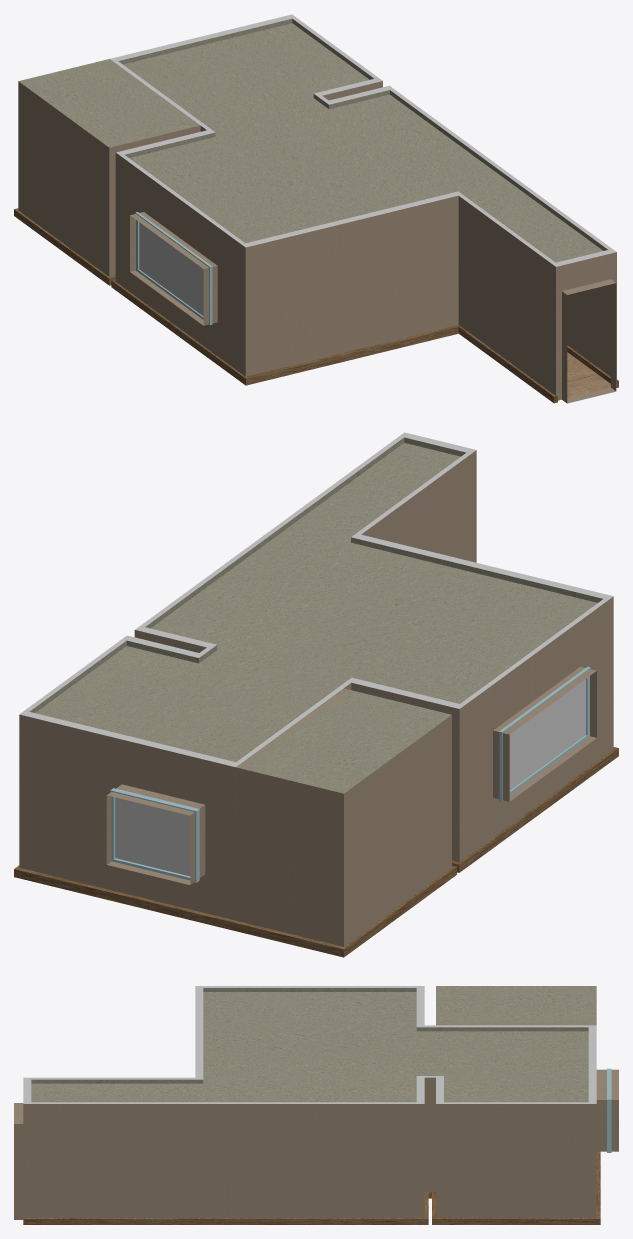
The model's file is room.obj.
3 renders of one model, top to bottom at view 1: azimuth 30°, elevation 25°; view 2: azimuth 150°, elevation 25°; view 3: azimuth 270°, elevation 25°, orthographic. The views are drawn at different scales.
Visible parts, largest first — view 1: Object_4_beige_wall_001.001, Object_12_leather_white.001, Object_16_material.001, Object_14_plywood.001, Object_8_Glass.001, Object_10_laminate_floor_02.001, Object_20_Plastic.001; view 2: Object_4_beige_wall_001.001, Object_12_leather_white.001, Object_16_material.001, Object_14_plywood.001, Object_6_Glass.001, Object_8_Glass.001, Object_18_Plastic.001, Object_20_Plastic.001; view 3: Object_4_beige_wall_001.001, Object_12_leather_white.001, Object_16_material.001, Object_14_plywood.001, Object_18_Plastic.001.
Part boxes in pixels (bbox=[...]): Object_4_beige_wall_001.001: bbox=[18, 60, 616, 403]; Object_12_leather_white.001: bbox=[18, 18, 607, 262]; Object_16_material.001: bbox=[110, 14, 616, 266]; Object_14_plywood.001: bbox=[14, 208, 618, 403]; Object_8_Glass.001: bbox=[139, 222, 203, 316]; Object_10_laminate_floor_02.001: bbox=[567, 352, 610, 398]; Object_20_Plastic.001: bbox=[135, 212, 212, 325]; Object_4_beige_wall_001.001: bbox=[19, 450, 613, 946]; Object_12_leather_white.001: bbox=[29, 437, 602, 793]; Object_16_material.001: bbox=[19, 432, 613, 767]; Object_14_plywood.001: bbox=[14, 747, 618, 957]; Object_6_Glass.001: bbox=[115, 797, 190, 876]; Object_8_Glass.001: bbox=[509, 679, 585, 790]; Object_18_Plastic.001: bbox=[110, 788, 199, 882]; Object_20_Plastic.001: bbox=[499, 666, 590, 801]; Object_4_beige_wall_001.001: bbox=[14, 1023, 618, 1219]; Object_12_leather_white.001: bbox=[31, 986, 596, 1102]; Object_16_material.001: bbox=[23, 986, 596, 1103]; Object_14_plywood.001: bbox=[23, 1151, 600, 1224]; Object_18_Plastic.001: bbox=[607, 1068, 611, 1152].
Bounding box in the file's own units: 17.21 × 7.71 × 35.25.
7 materials, 4 textured.
